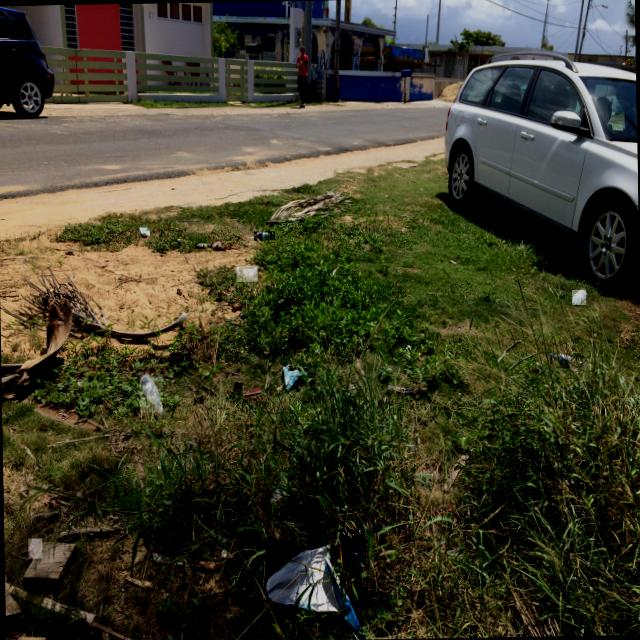Bottle cap: (573, 300, 577, 305)
Clear plastic bottle: (550, 353, 583, 367), (572, 289, 586, 305), (254, 231, 275, 240)
Cup: (236, 266, 257, 281)
Glass bottle: (139, 374, 163, 412)
Plastic film: (266, 545, 363, 638)
Unlabeled litter: (341, 529, 365, 564), (282, 366, 303, 390), (28, 539, 42, 558), (196, 244, 212, 248), (139, 228, 149, 234)
